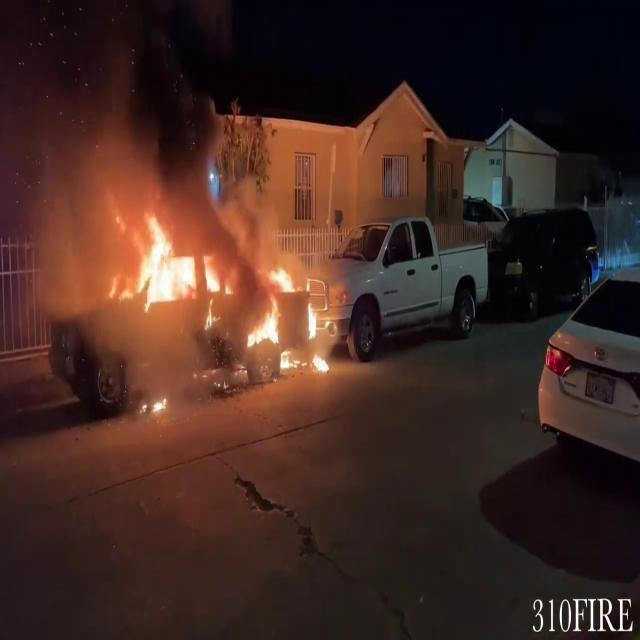Fire: (122, 208, 230, 342), (248, 255, 336, 374)
Smoke: (12, 3, 239, 305)
